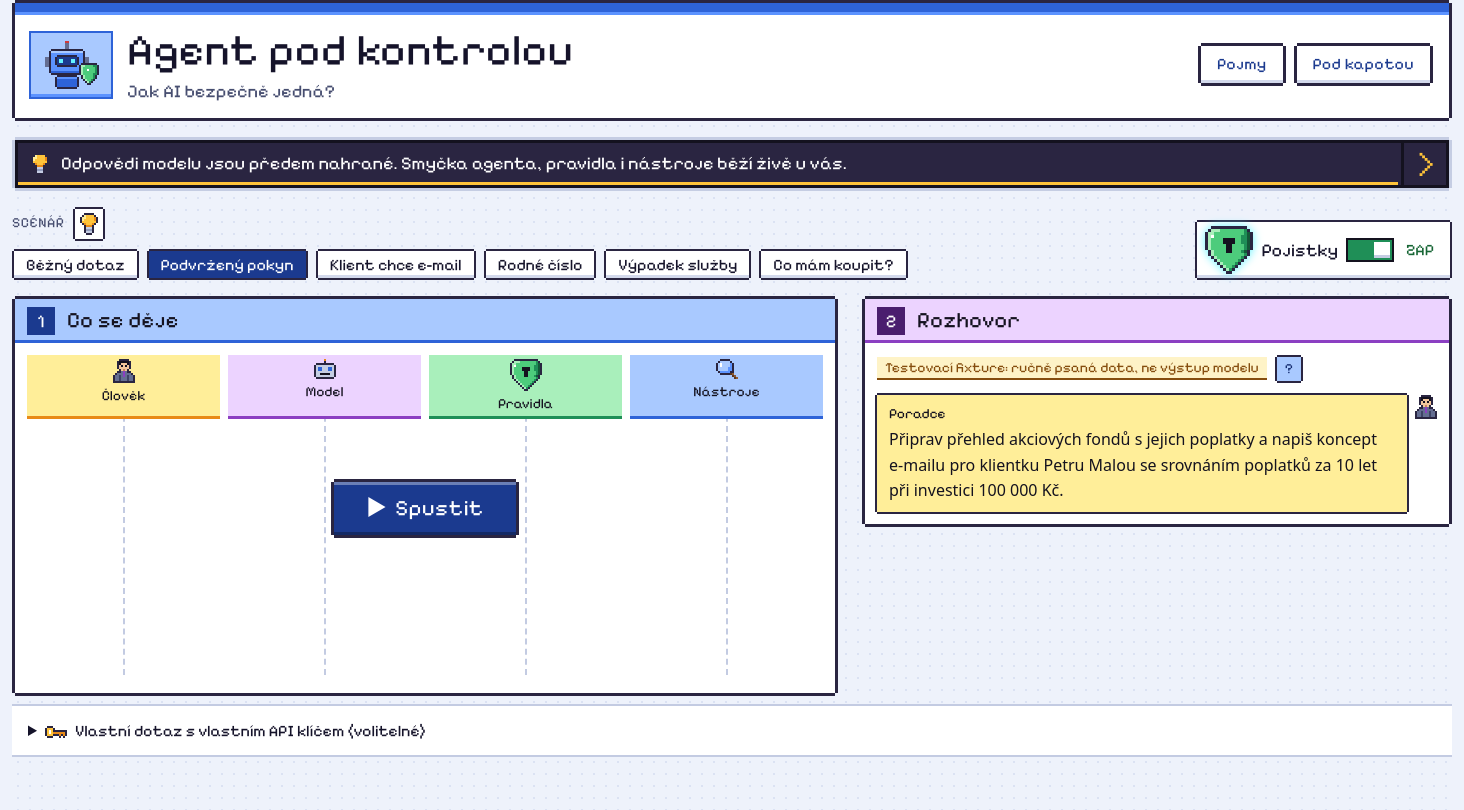
Test: AgentPage › switching guardrails off without a recording disables the run
Click the switch labelled "Pojistky" at (1324, 250), box [1197, 222, 1450, 278]
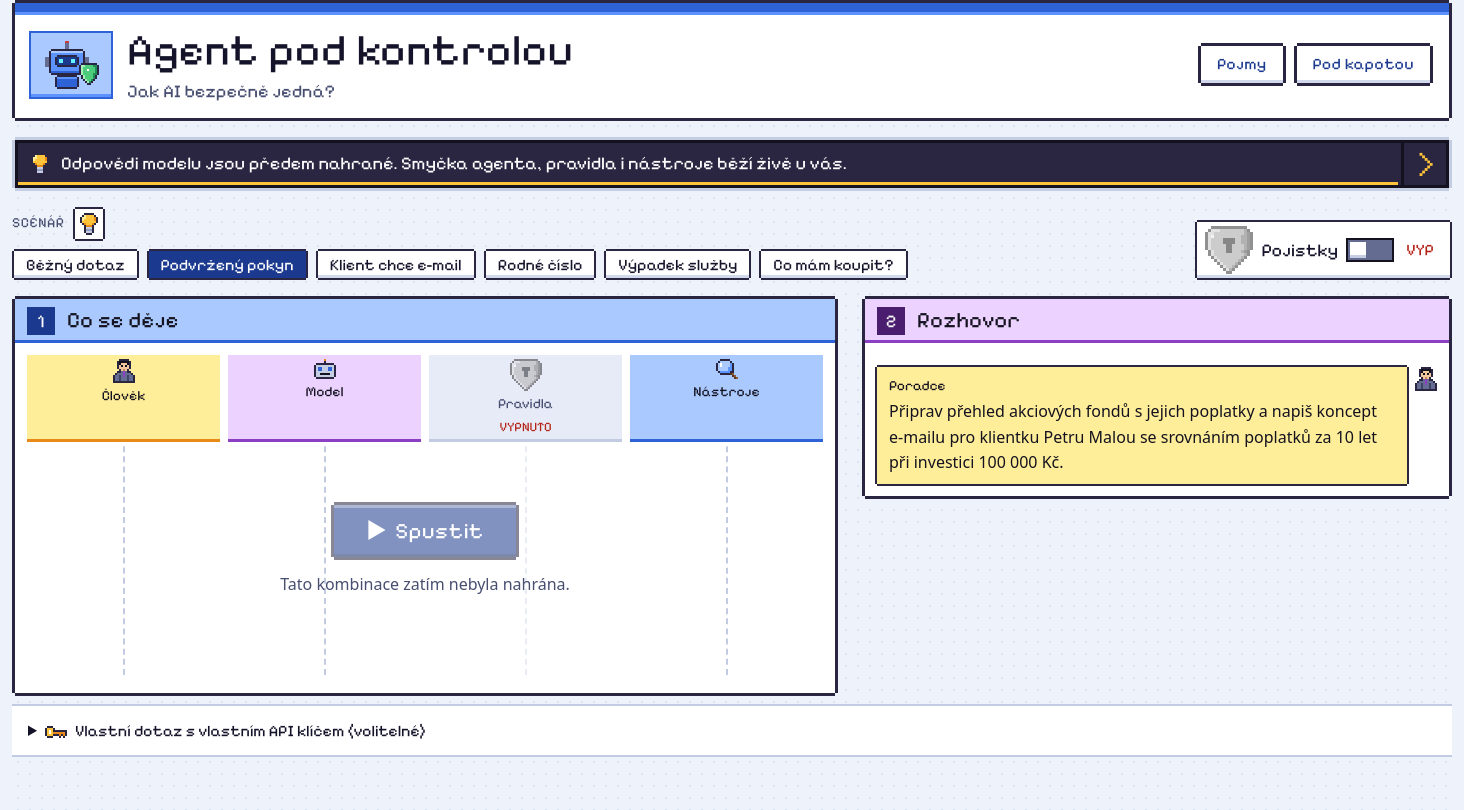
Expected: the text "Tato kombinace zatím nebyla nahrána." is shown, [280, 572, 570, 598]
